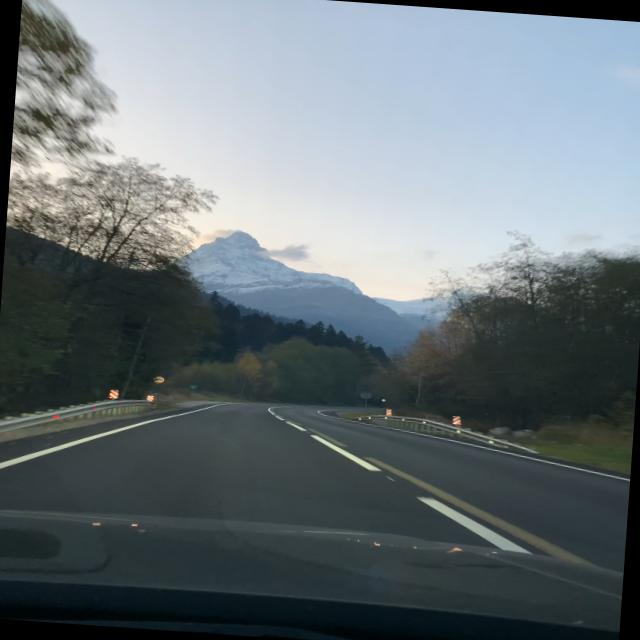asphalt: (0, 401, 629, 573)
